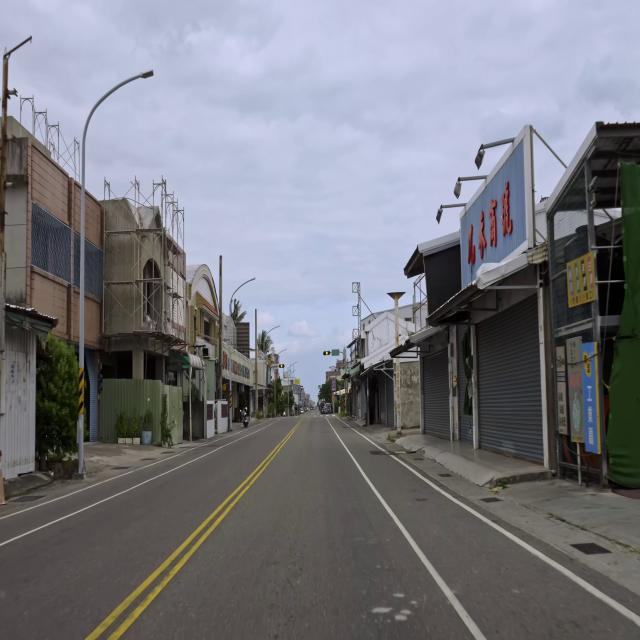yellow light: (323, 351, 330, 356), (278, 364, 284, 368)
